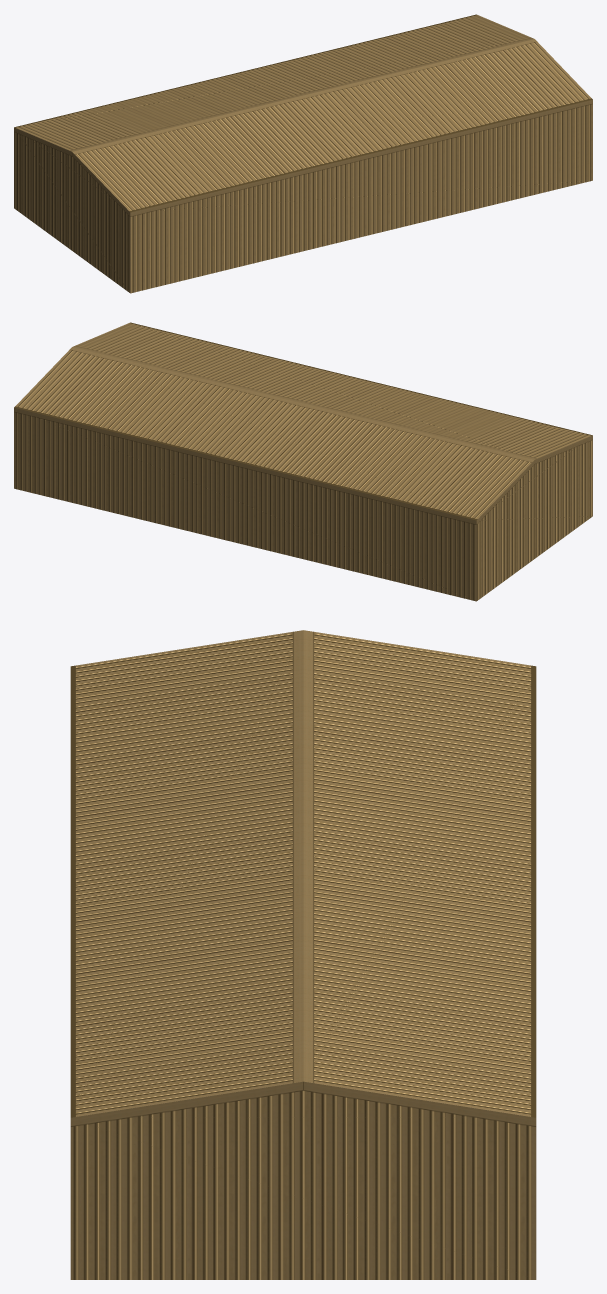
The model's file is hangar-side-door-26x11x4-mustard-cbj_LOD01.gltf.
3 renders of one model, top to bottom at view 1: azimuth 30°, elevation 25°; view 2: azimuth 150°, elevation 25°; view 3: azimuth 270°, elevation 25°, orthographic. The views are drawn at different scales.
Parts seen in each view (by area): view 1: hangar-side-d01; view 2: hangar-side-d01; view 3: hangar-side-d01.
Part boxes in pixels (box(x1,y1,x2,y2)): hangar-side-d01: box(14, 14, 592, 293); hangar-side-d01: box(14, 322, 592, 601); hangar-side-d01: box(70, 630, 536, 1279).
Size of the model in its own units: 25.7 by 5.26 by 11.2.
